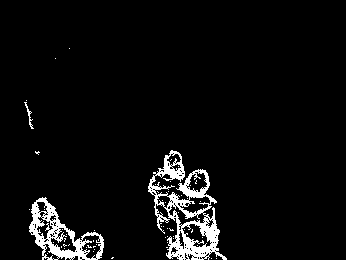person: (148, 146, 181, 246)
